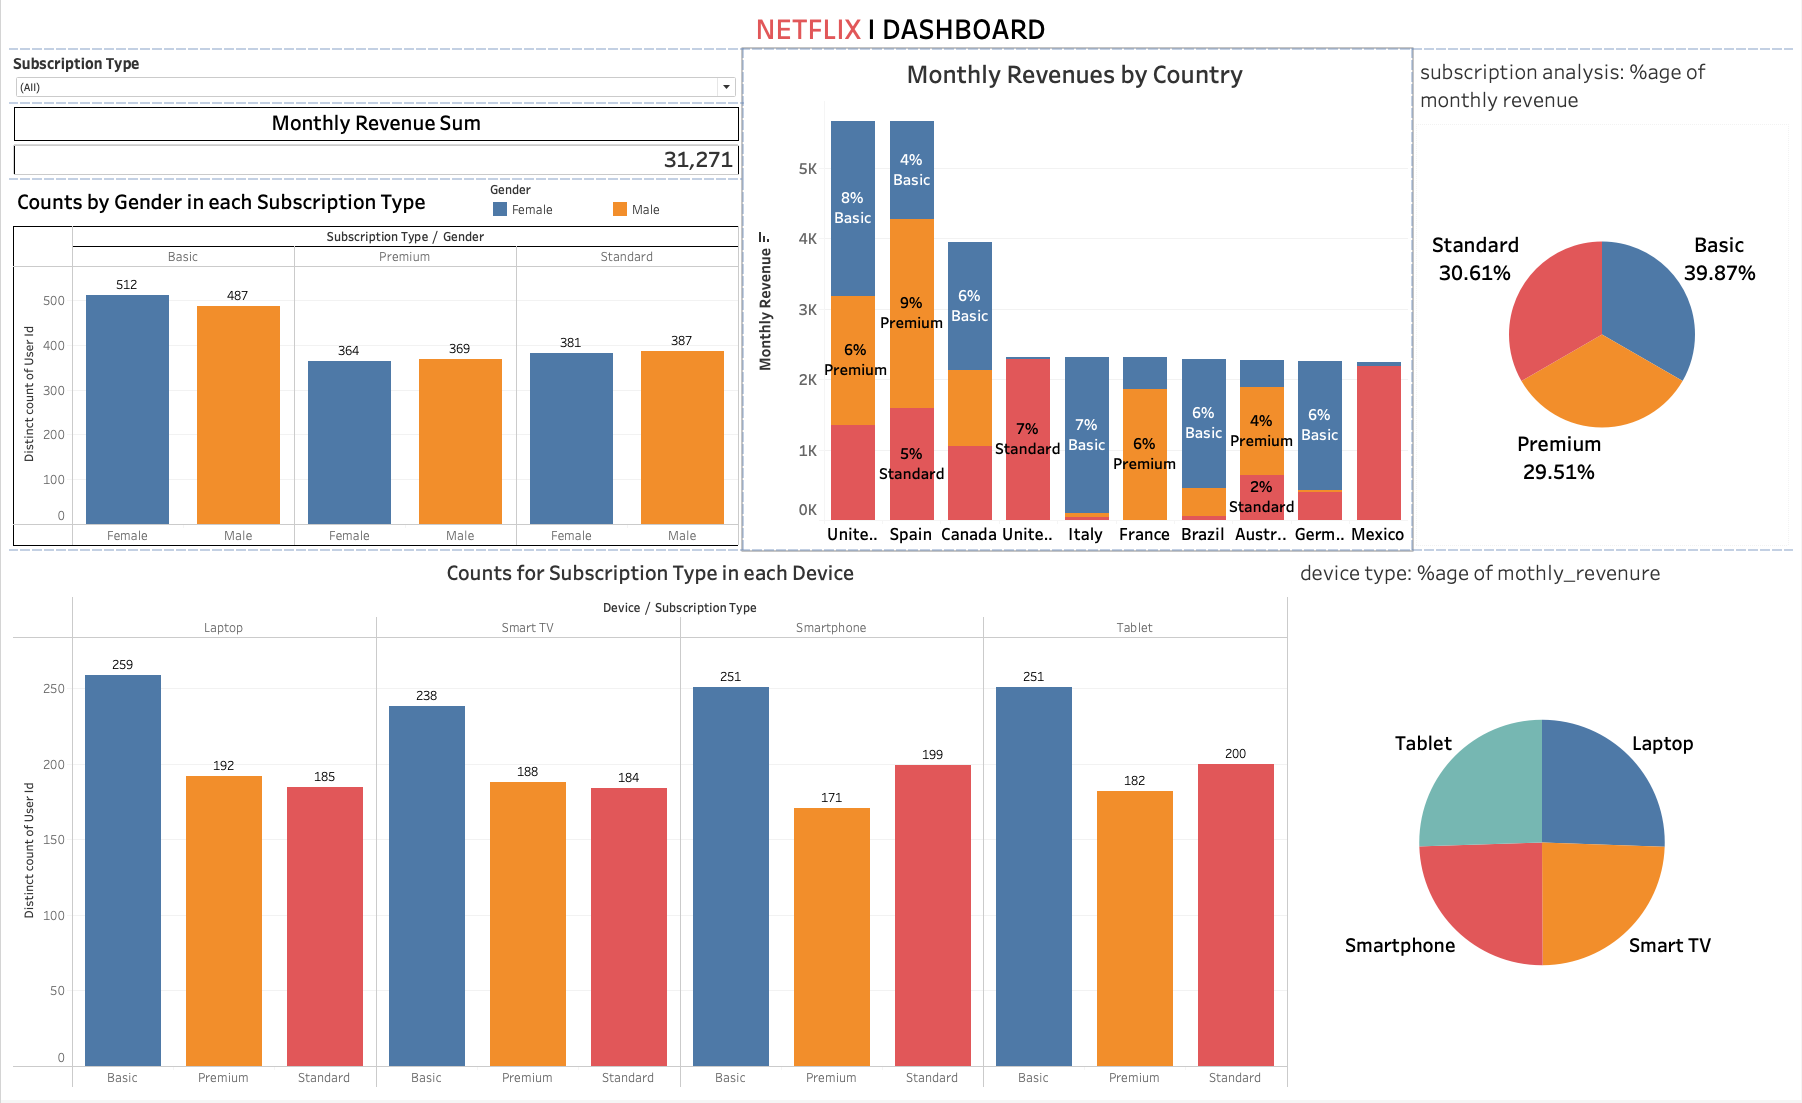

The page's visual inventory and layout, read from the dashboard file:
{"tool":"tableau","page":{"name":"Dashboard 2","canvas":[1800,1100],"ordinal":1},"visuals":[{"type":"text","box":[8,8,1784,41]},{"type":"filter","title":"country analysis: bar graph for each country","param":"[federated.0wd23mv1i5j0yn17z682z1nz34c2].[none:subscription_type:nk]","box":[8,49,734,54]},{"type":"worksheet","title":"country analysis: bar graph for each country","mark":"Automatic","rows":["monthly_revenue"],"cols":["country"],"box":[742,49,669,501]},{"type":"worksheet","title":"subscription analysis: %age of monthly revenue","mark":"Pie","box":[1411,49,381,501]},{"type":"worksheet","title":"metrics: monthly revenue sum","mark":"Automatic","box":[8,103,734,76]},{"type":"worksheet","title":"gender analysis: counts in each subscription type","mark":"Automatic","rows":["user_id"],"cols":["subscription_type","gender"],"box":[8,179,734,371]},{"type":"legend","title":"gender analysis: counts in each subscription type","param":"[federated.0wd23mv1i5j0yn17z682z1nz34c2].[none:gender:nk]","box":[489,181,244,39]},{"type":"worksheet","title":"Sheet 7","mark":"Automatic","rows":["user_id"],"cols":["device","subscription_type"],"box":[8,550,1283.1,542]},{"type":"worksheet","title":"device type: %age of mothly_revenure","mark":"Pie","box":[1291.1,550,500.9,542]}]}

Visuals, with their boxes in screenshot pixels (x1, y1, x2, y2), scaled from the page's 1800x1100 canvas onto the 1802x1103 screenshot:
text: x1=8 y1=8 x2=1794 y2=49
"country analysis: bar graph for each country" filter: x1=8 y1=49 x2=743 y2=103
"country analysis: bar graph for each country" worksheet: x1=743 y1=49 x2=1413 y2=552
"subscription analysis: %age of monthly revenue" worksheet (Pie marks): x1=1413 y1=49 x2=1794 y2=552
"metrics: monthly revenue sum" worksheet: x1=8 y1=103 x2=743 y2=179
"gender analysis: counts in each subscription type" worksheet: x1=8 y1=179 x2=743 y2=552
"gender analysis: counts in each subscription type" legend: x1=490 y1=181 x2=734 y2=221
"Sheet 7" worksheet: x1=8 y1=552 x2=1293 y2=1095
"device type: %age of mothly_revenure" worksheet (Pie marks): x1=1293 y1=552 x2=1794 y2=1095
